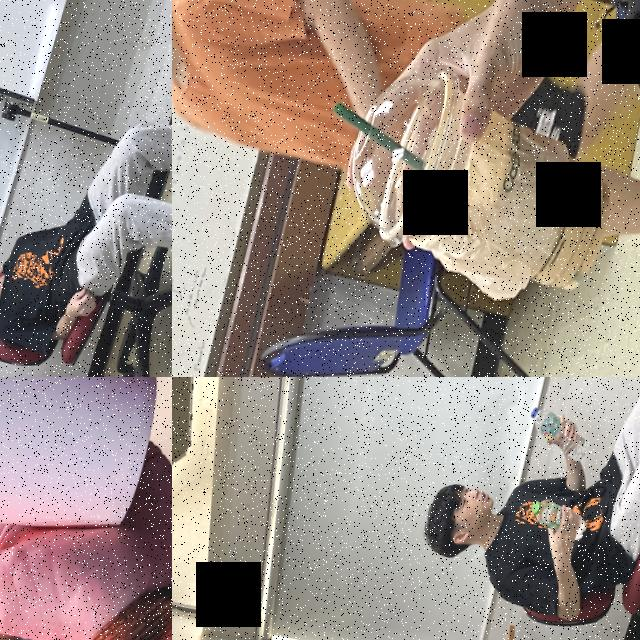bottle: (521, 402, 596, 463), (526, 494, 591, 541)
cup: (330, 50, 634, 299), (0, 377, 172, 585)
